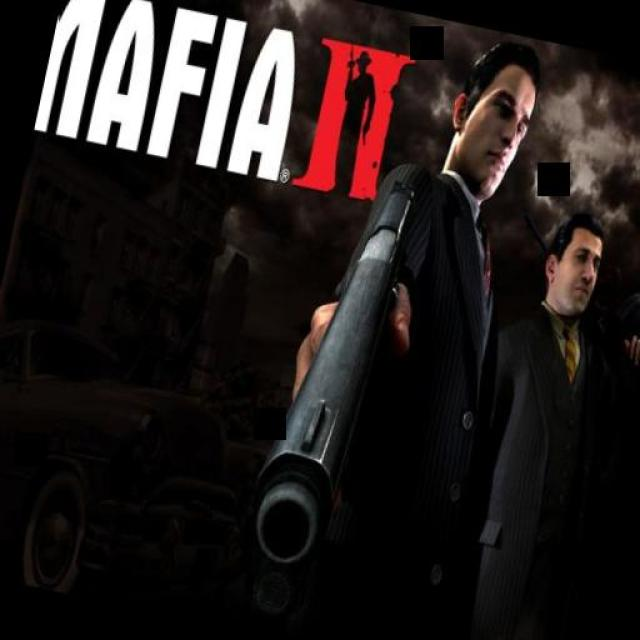gun: (221, 144, 441, 616)
